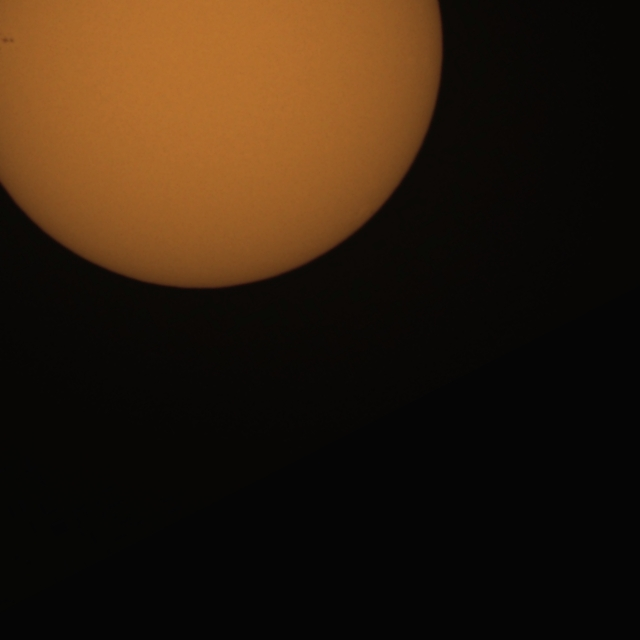sunspot: (1, 35, 15, 45)
